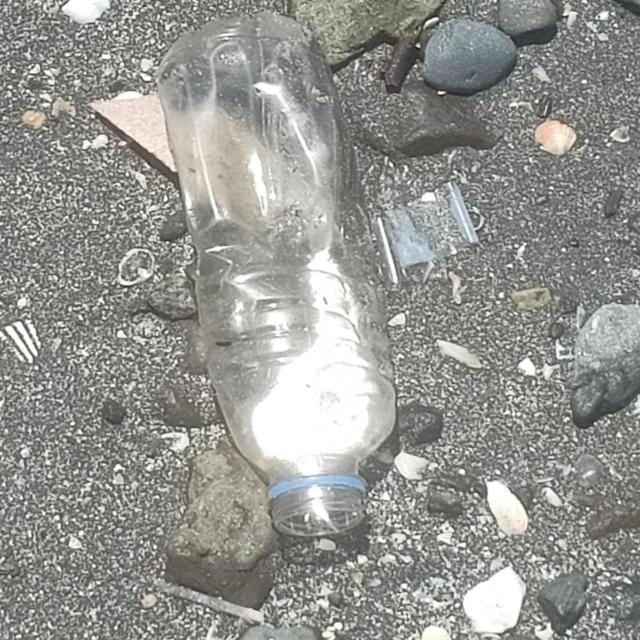litter: (157, 14, 398, 533)
